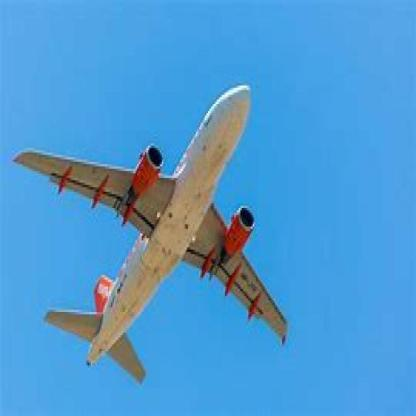plane: (13, 56, 298, 395)
